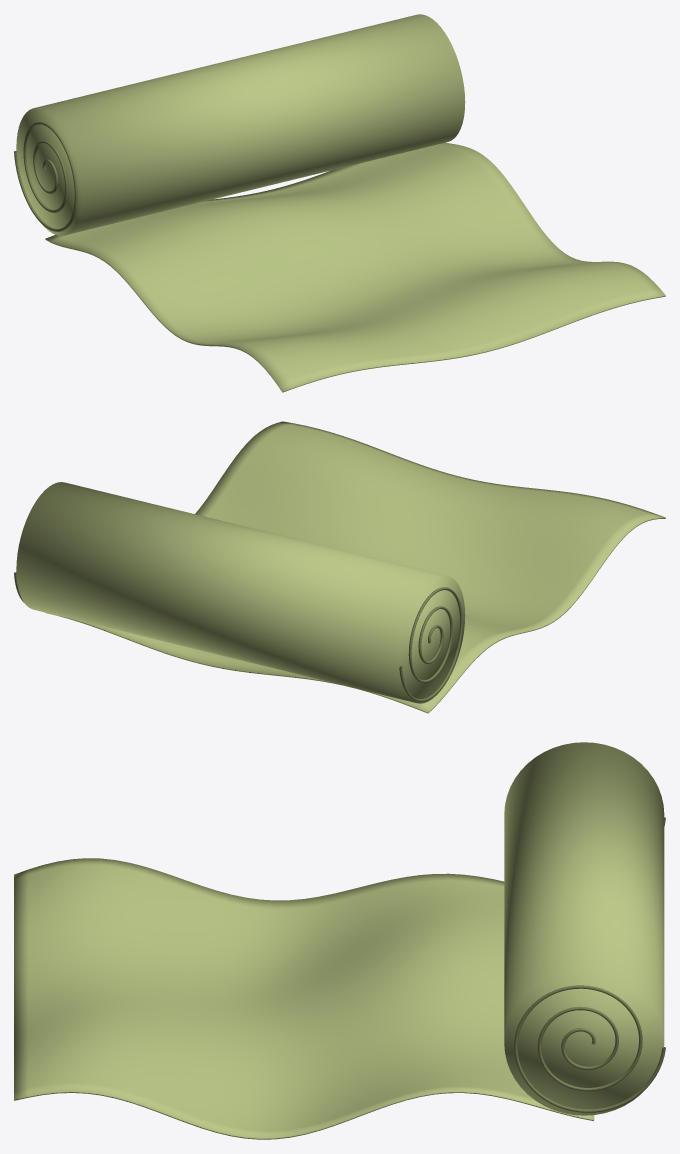
The picture shows the model from 3 angles, top to bottom: view 1: azimuth 30°, elevation 25°; view 2: azimuth 150°, elevation 25°; view 3: azimuth 270°, elevation 25°; orthographic projection. The views are drawn at different scales.
Parts seen in each view (by area): view 1: TI011 / editable draped woven sheet, TI011 / rolled cloth body, TI011 / visible spiral selvage; view 2: TI011 / rolled cloth body, TI011 / editable draped woven sheet, TI011 / visible spiral selvage; view 3: TI011 / editable draped woven sheet, TI011 / rolled cloth body, TI011 / visible spiral selvage.001.
Boxes of the visible parts, left/top/right/bottom form: TI011 / editable draped woven sheet: left=45, top=142, right=665, bottom=392; TI011 / rolled cloth body: left=16, top=14, right=465, bottom=235; TI011 / visible spiral selvage: left=14, top=121, right=77, bottom=231; TI011 / rolled cloth body: left=16, top=482, right=465, bottom=703; TI011 / editable draped woven sheet: left=45, top=421, right=665, bottom=713; TI011 / visible spiral selvage: left=399, top=587, right=462, bottom=701; TI011 / editable draped woven sheet: left=14, top=858, right=594, bottom=1139; TI011 / rolled cloth body: left=504, top=742, right=664, bottom=1115; TI011 / visible spiral selvage.001: left=514, top=985, right=665, bottom=1112.
Bounding box in the file's own units: 2.73 × 0.9328 × 3.26.
